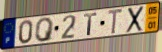0: (18, 18, 34, 45)
2: (60, 14, 78, 41)
Q: (35, 16, 55, 43)
T: (107, 7, 124, 36), (83, 12, 98, 37)
X: (125, 5, 145, 34)
